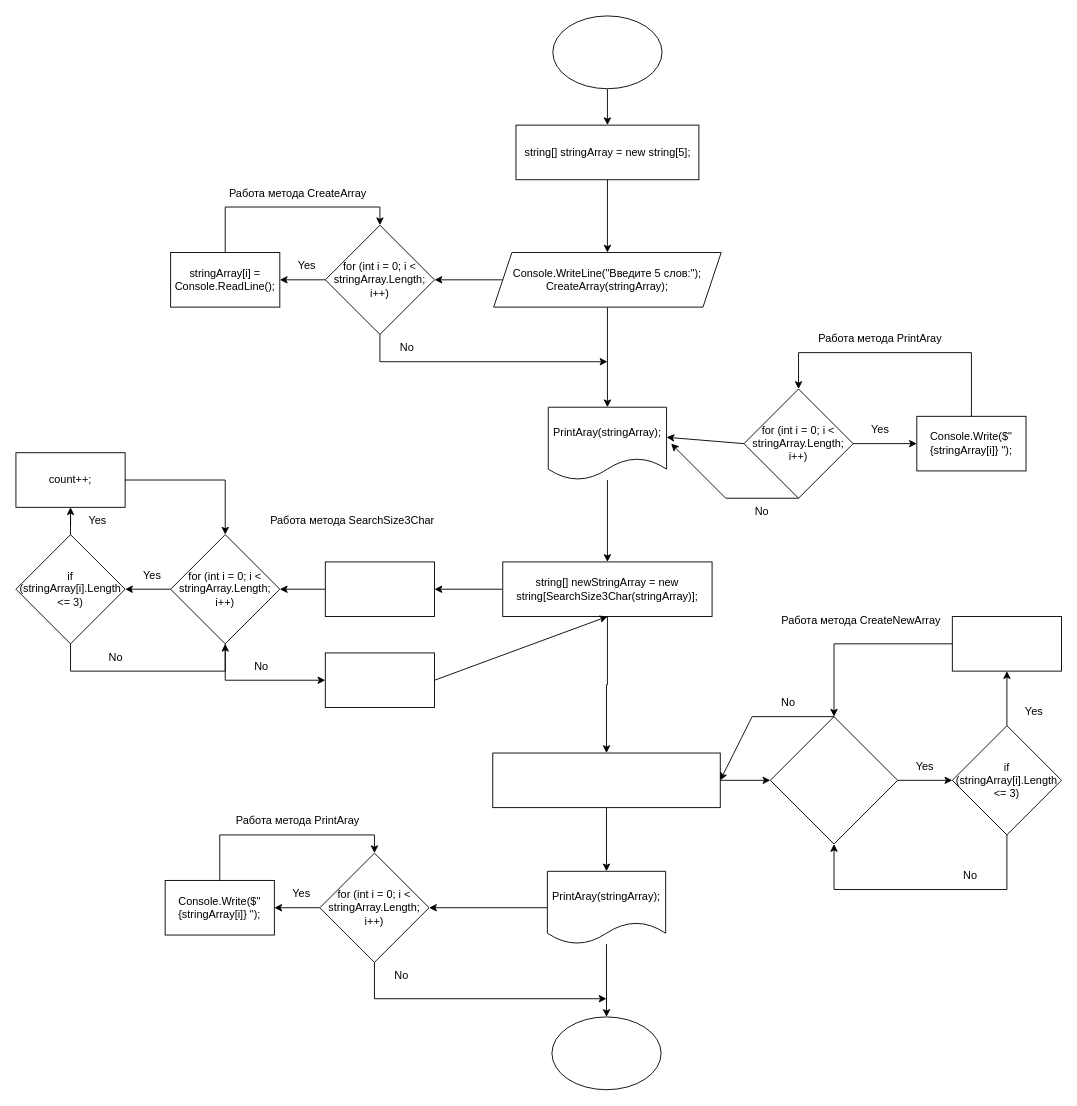
This 1077x1106 diagram has some shape labels left out. The shapes that lost their labels are listed below. From the top down, each one's centre as x and y in pixels, then its label:
At (607,52): "Start".
At (379,589): "int count = 0;".
At (1006,643): "newArray[j] = oldArray[i]; j++;".
At (379,680): "return count;".
At (606,780): "CreateNewArray(stringArray, newStringArray);".
At (833,780): "for (int i = 0, j = 0; i < stringArray.Length; i++)".
At (606,1053): "End".
